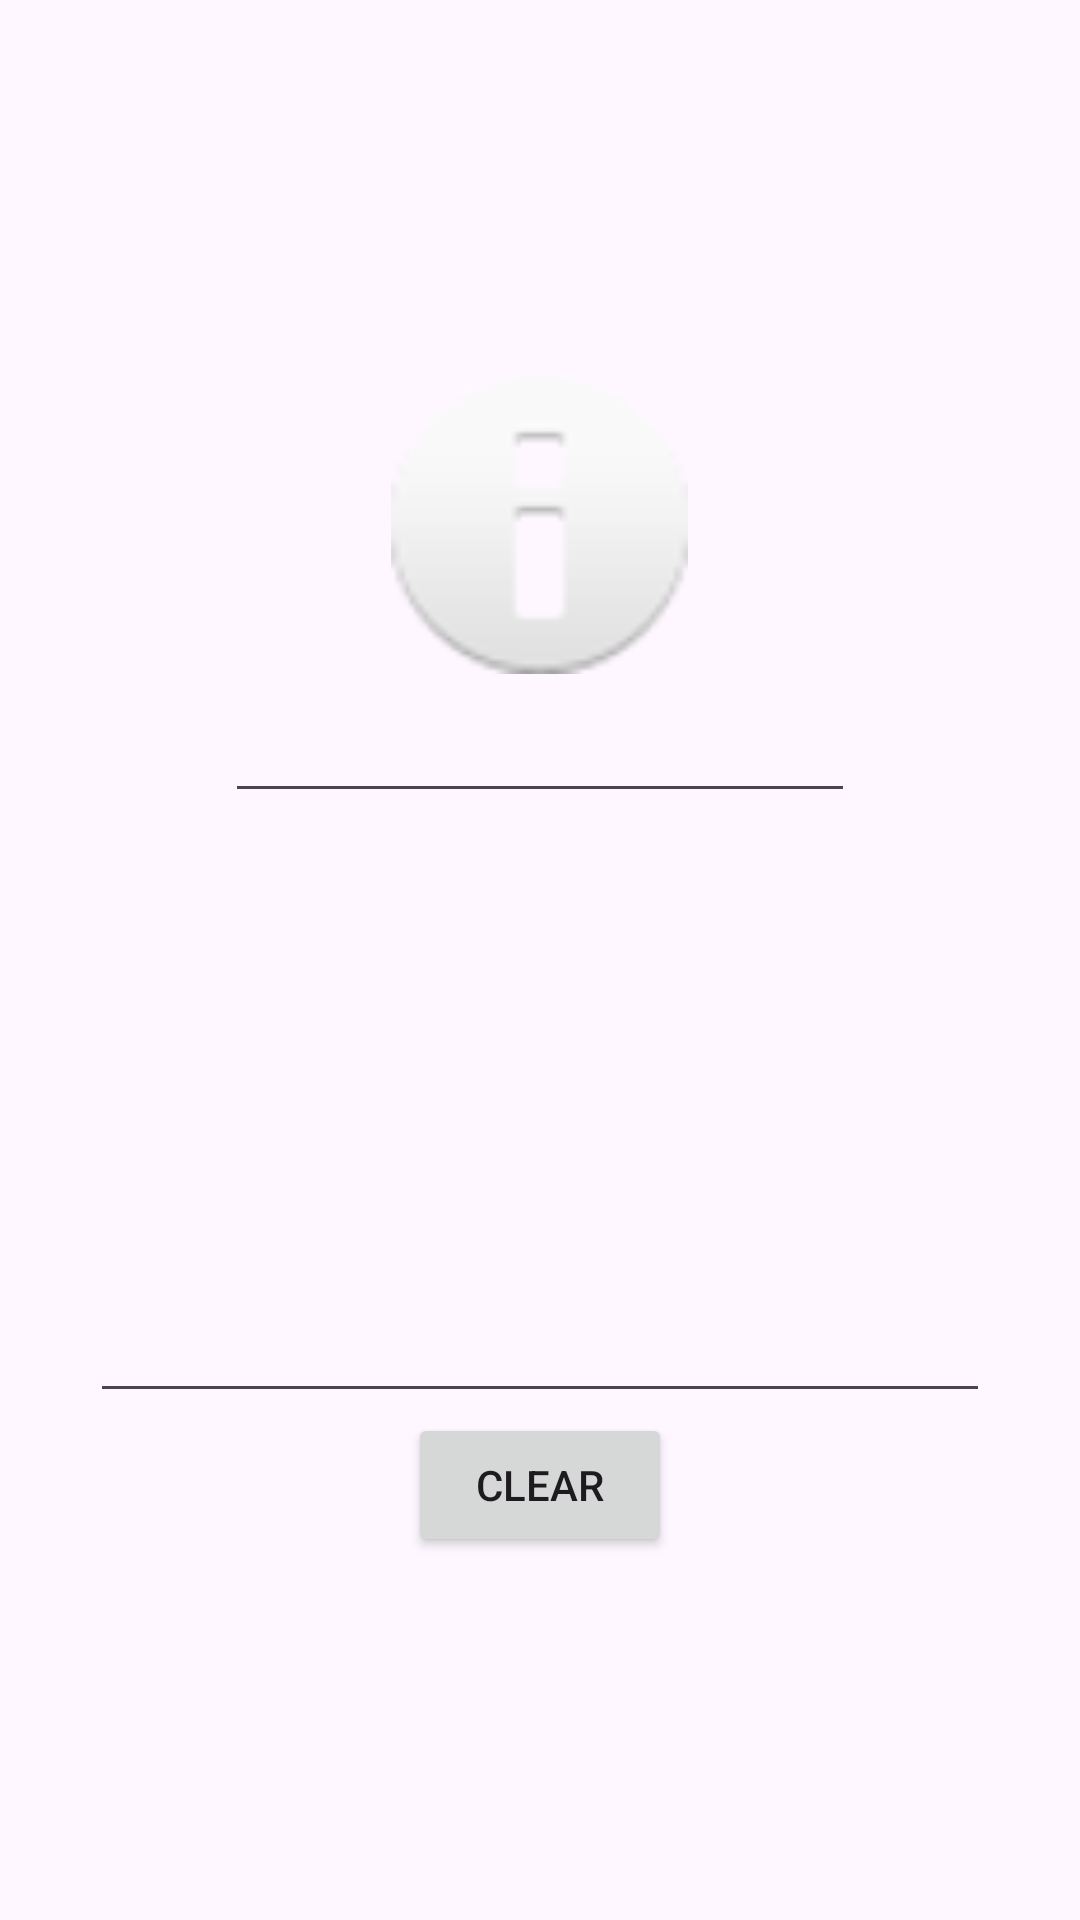

Screen size 1080×1920. Icon name, then its center in pixels as [x,y]:
info: [539,552]
